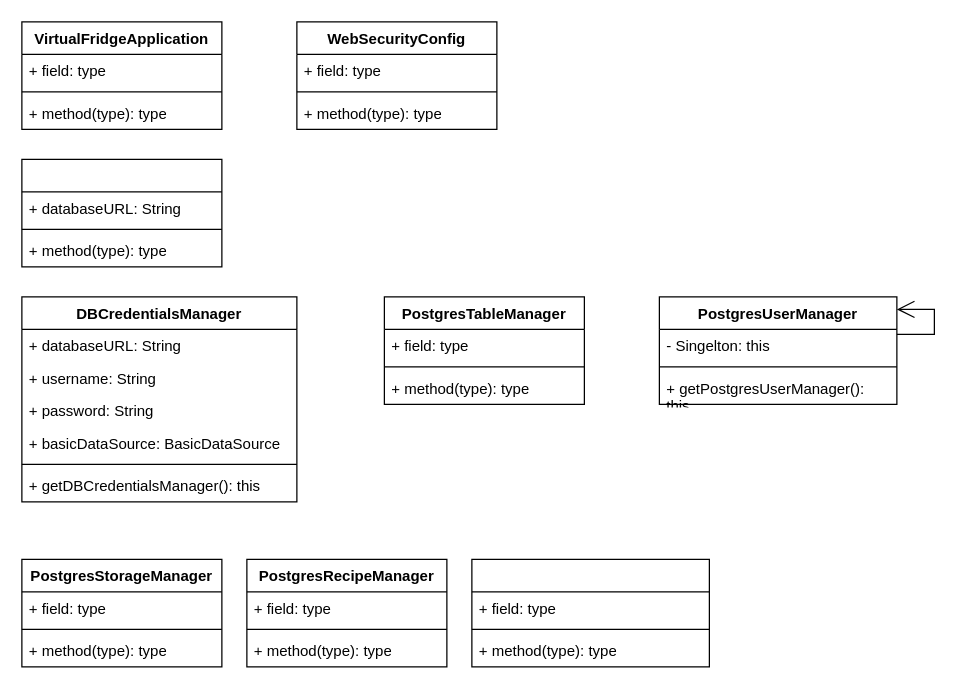
Some shapes in this 974 by 693 pixel diagram are drawn without their labels. The shapes that lost their labels are listed below. From the top down, each one's box as (x1, y1, x2, y2) in pixels, then its label:
(21, 158, 222, 267): MappingController
(471, 558, 709, 667): PostgresShoppingListManager
